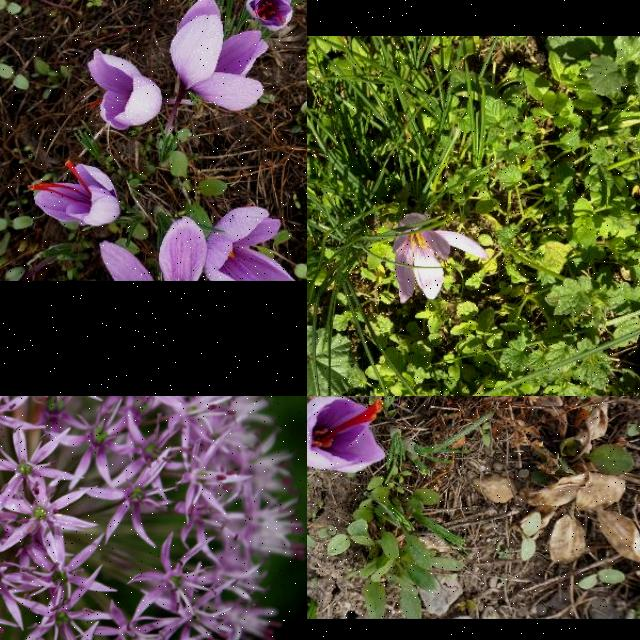flower: (169, 0, 268, 111), (392, 212, 488, 304), (206, 206, 294, 282), (307, 396, 387, 474), (28, 160, 122, 226), (88, 50, 162, 130), (246, 0, 293, 30)
